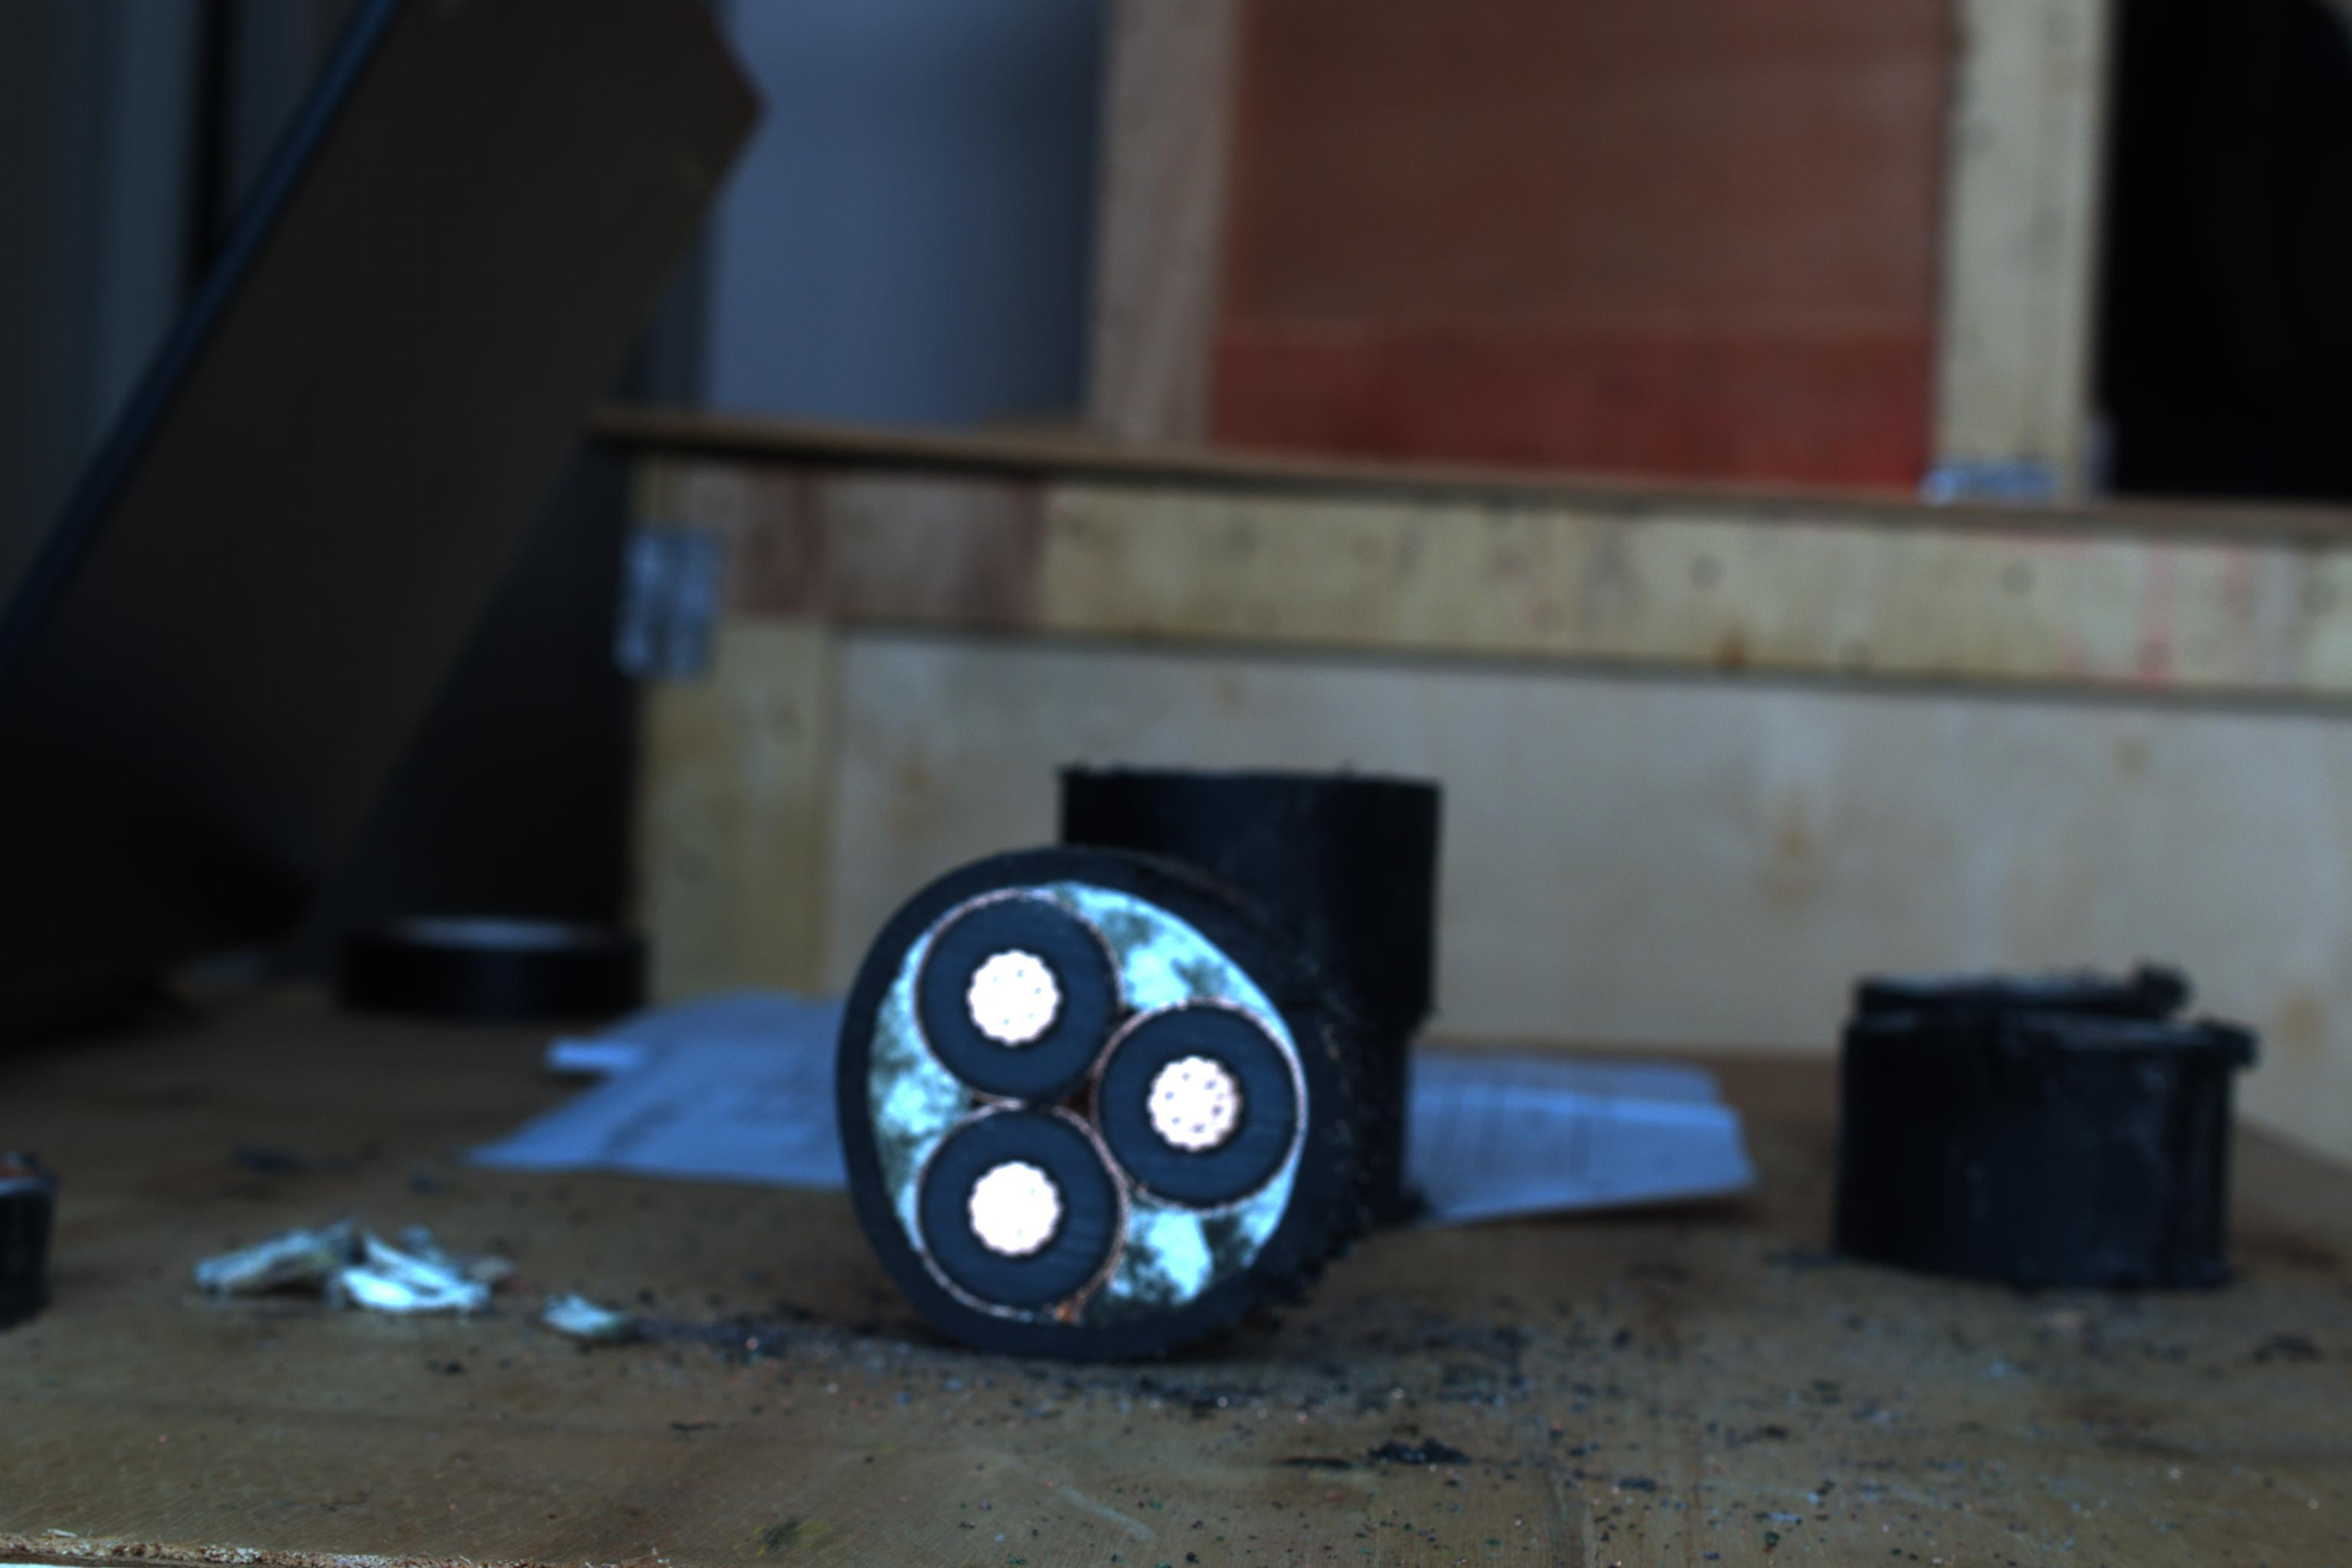YJV_8.7_10kV_3x70: (838, 828, 1328, 1356)
